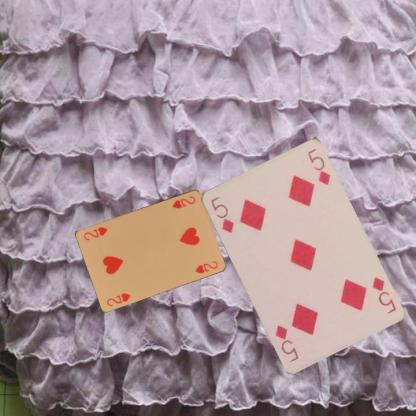2h: (104, 290, 132, 307), (170, 193, 196, 210)
5d: (208, 193, 235, 236), (369, 274, 397, 315)
